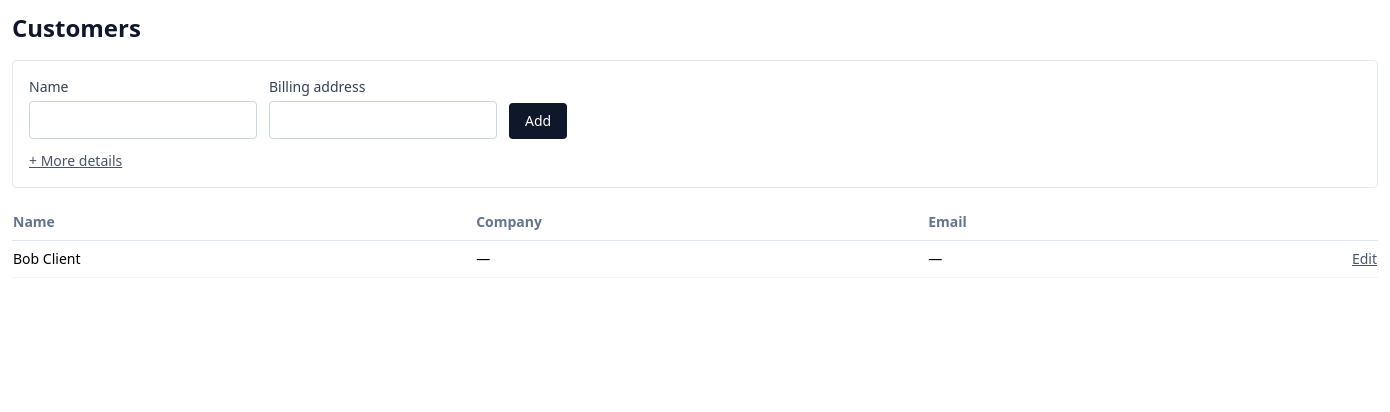
Test: CustomersListPage — edit in place › clicking Edit shows that row pre-filled with its current values
The width and height of the screenshot is (1390, 412).
Expected: the text "Bob Client" is shown, [12, 240, 475, 278]
Click the button "Edit": coordinates (1364, 259) [1352, 249, 1377, 269]
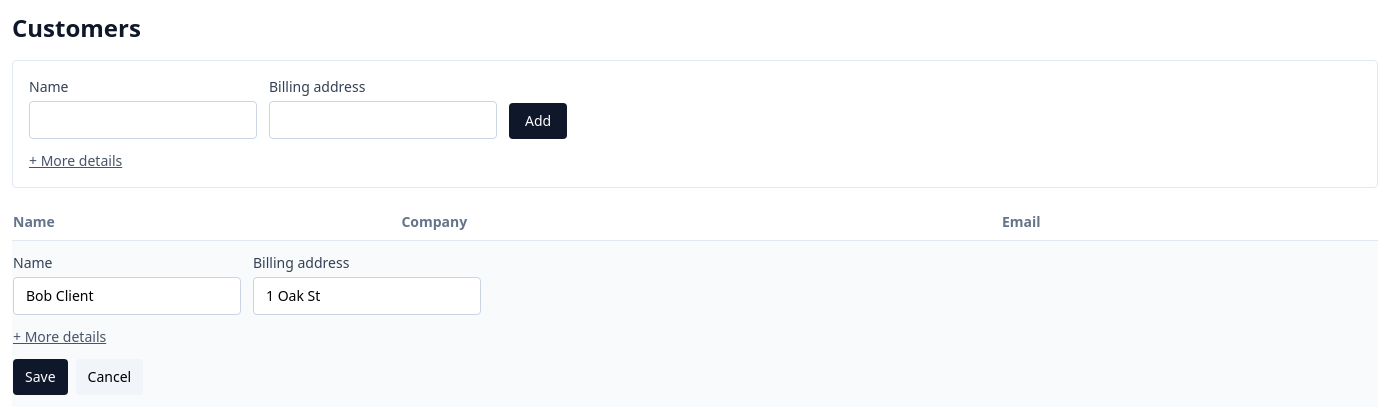
Result: the 2nd field labelled "Name" holds "Bob Client" at [13, 277, 241, 315]
Result: the 2nd field labelled "Billing address" holds "1 Oak St" at [253, 277, 481, 315]
